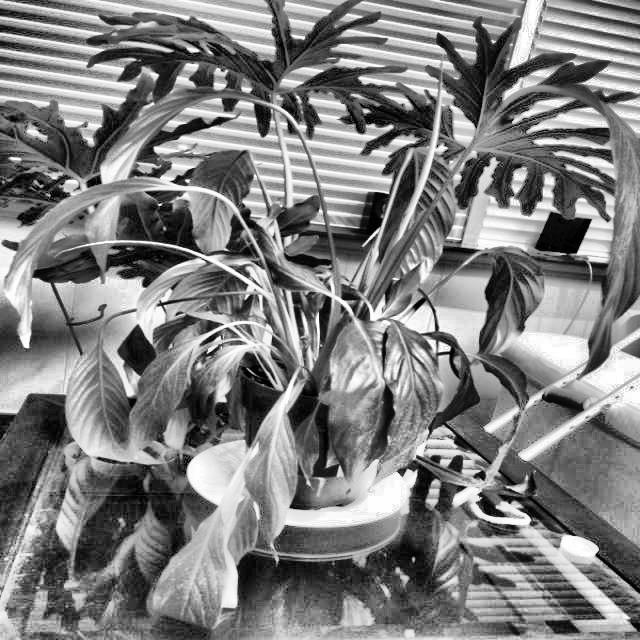plants: (0, 43, 639, 625), (120, 317, 332, 459), (397, 436, 568, 502)
